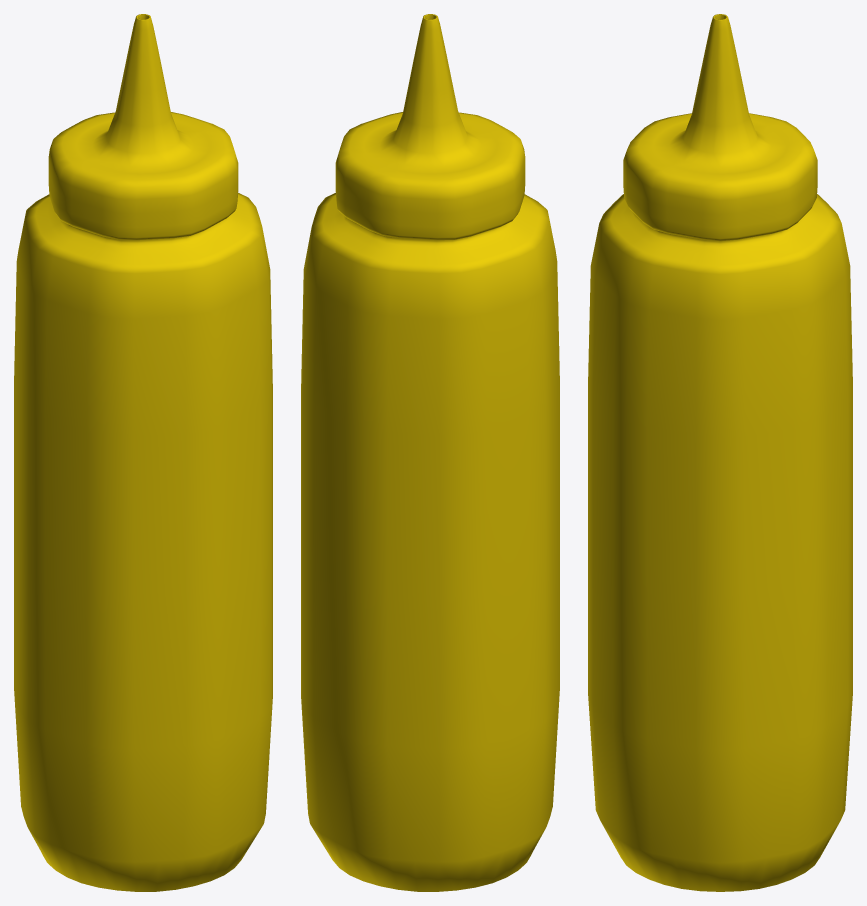
Rendered from Mustard.fbx.
The picture shows the model from 3 angles, left to right: view 1: azimuth 30°, elevation 25°; view 2: azimuth 150°, elevation 25°; view 3: azimuth 270°, elevation 25°; orthographic projection.
Visible parts, largest first — view 1: Mustard; view 2: Mustard; view 3: Mustard.
Part boxes in pixels (x1=…): Mustard: x1=14, y1=14, x2=272, y2=891; Mustard: x1=301, y1=14, x2=559, y2=891; Mustard: x1=588, y1=14, x2=852, y2=891.
Size of the model in its own units: 3.03 by 10.51 by 3.03.
